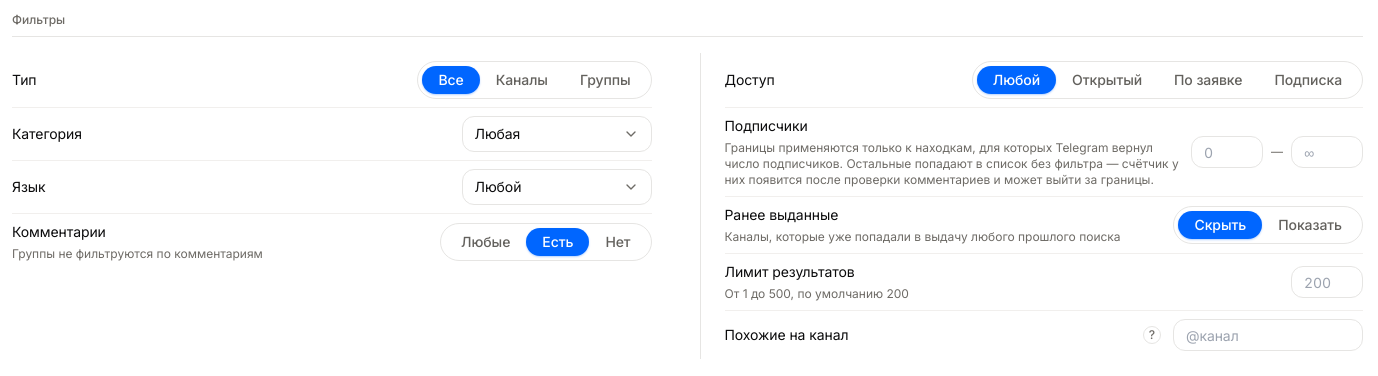
Test case: DiscoveryFilters › says that groups pass a comments filter when the kind is "all"
Expected: the text "Группы не фильтруются по комментариям" is shown, 12,246 -> 263,261
# Not with the filter off, and not for channels alone — nothing passes unfiltered there.
Click the radio button labelled "Любые" at {"x": 486, "y": 242}, box 445,228 -> 526,256
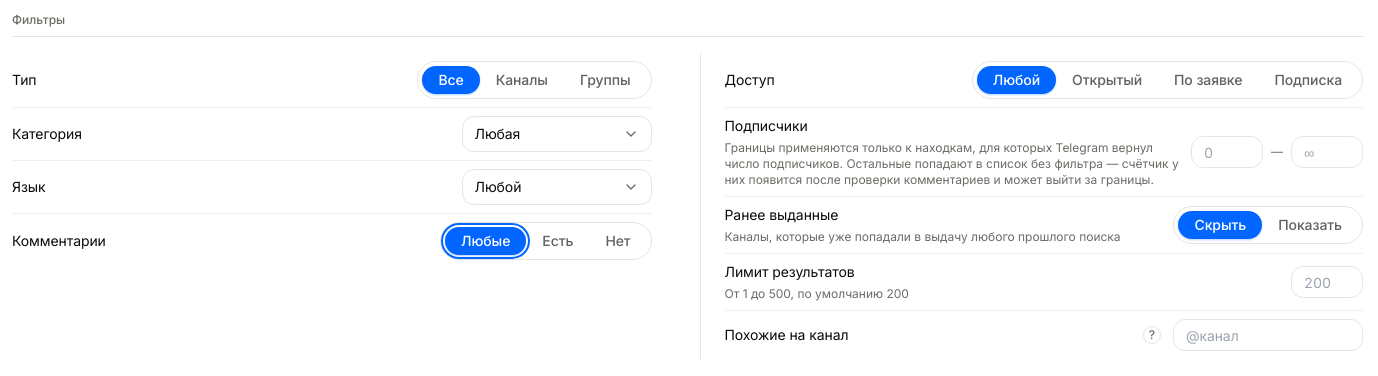
Result: the text "Группы не фильтруются по комментариям" is gone
Click the radio button labelled "Есть" at {"x": 558, "y": 241}, box 526,227 -> 589,255
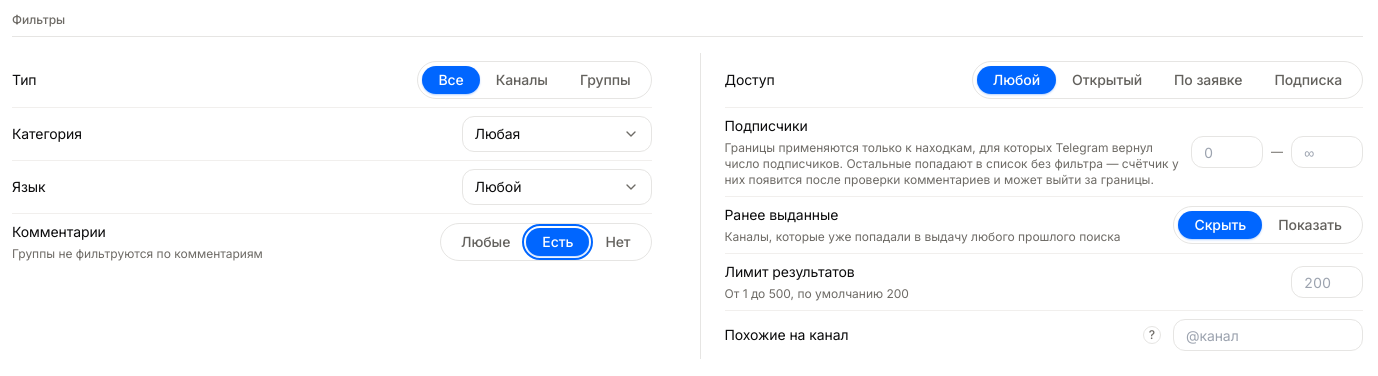
Click the radio button labelled "Каналы" at {"x": 522, "y": 80}, box 480,66 -> 564,94
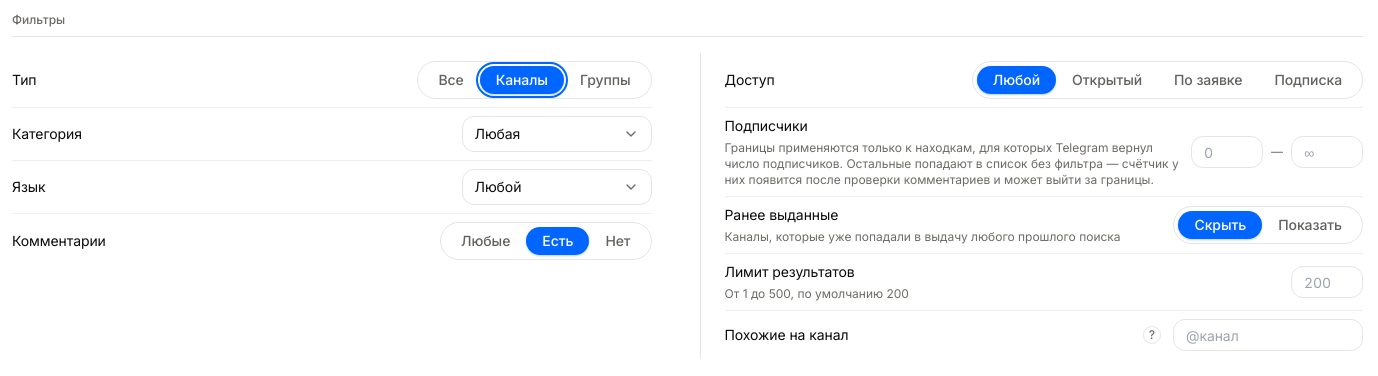
Result: the text "Группы не фильтруются по комментариям" is gone
